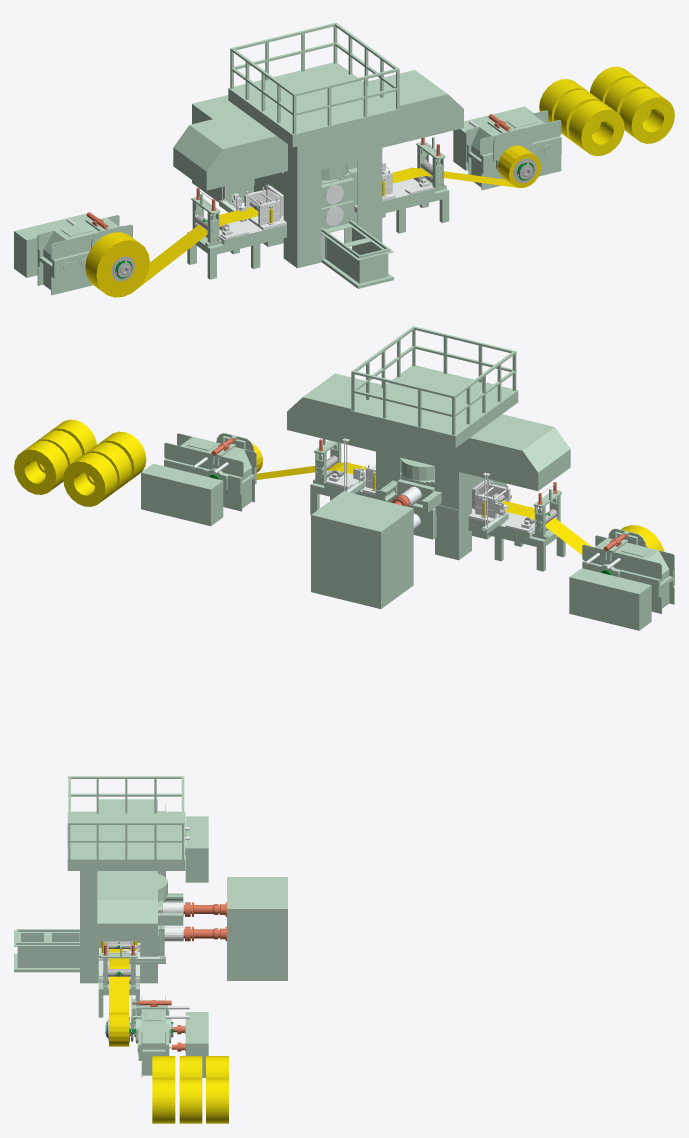
File: 150lenzhaji.glb
The picture shows the model from 3 angles, top to bottom: view 1: azimuth 30°, elevation 25°; view 2: azimuth 150°, elevation 25°; view 3: azimuth 270°, elevation 25°; orthographic projection. The views are drawn at different scales.
Visible parts, largest first — view 1: TEMPORARY_IMPORT_NAMESPACE_150冷轧__polySurfaceSha6, TEMPORARY_IMPORT_NAMESPACE_150冷轧__pCubeSha, TEMPORARY_IMPORT_NAMESPACE_150冷轧__polySurfaceSha268, TEMPORARY_IMPORT_NAMESPACE_150冷轧__polySurfaceSha.002, TEMPORARY_IMPORT_NAMESPACE_150冷轧__polySurfaceSha57, transform20.001, transform634.001, transform15.001, TEMPORARY_IMPORT_NAMESPACE_150冷轧__polySurfaceSha85, TEMPORARY_IMPORT_NAMESPACE_150冷轧__polySurfaceSha86, TEMPORARY_IMPORT_NAMESPACE_150冷轧__polySurfaceSha41, TEMPORARY_IMPORT_NAMESPACE_150冷轧__polySurfaceSha.008 (+19 smaller); view 2: TEMPORARY_IMPORT_NAMESPACE_150冷轧__polySurfaceSha6, TEMPORARY_IMPORT_NAMESPACE_150冷轧__pCubeSha, TEMPORARY_IMPORT_NAMESPACE_150冷轧__polySurfaceSha86, TEMPORARY_IMPORT_NAMESPACE_150冷轧__polySurfaceSha268, TEMPORARY_IMPORT_NAMESPACE_150冷轧__polySurfaceSha41, TEMPORARY_IMPORT_NAMESPACE_150冷轧__polySurfaceSha85, transform18.001, transform17.001, transform634.001, TEMPORARY_IMPORT_NAMESPACE_150冷轧__polySurfaceSha35, TEMPORARY_IMPORT_NAMESPACE_150冷轧__polySurfaceSha80, transform19.001 (+7 smaller); view 3: TEMPORARY_IMPORT_NAMESPACE_150冷轧__polySurfaceSha6, TEMPORARY_IMPORT_NAMESPACE_150冷轧__polySurfaceSha86, TEMPORARY_IMPORT_NAMESPACE_150冷轧__pCubeSha, TEMPORARY_IMPORT_NAMESPACE_150冷轧__polySurfaceSha.002, TEMPORARY_IMPORT_NAMESPACE_150冷轧__polySurfaceSha268, TEMPORARY_IMPORT_NAMESPACE_150冷轧__polySurfaceSha85, TEMPORARY_IMPORT_NAMESPACE_150冷轧__polySurfaceSha41, transform15.001, transform16.001, transform634.001, transform17.001, TEMPORARY_IMPORT_NAMESPACE_150冷轧__polySurfaceSha88 (+6 smaller).
Boxes of the visible parts, x1=… form: TEMPORARY_IMPORT_NAMESPACE_150冷轧__polySurfaceSha6: x1=228, y1=62, x2=400, y2=268; TEMPORARY_IMPORT_NAMESPACE_150冷轧__pCubeSha: x1=173, y1=70, x2=463, y2=190; TEMPORARY_IMPORT_NAMESPACE_150冷轧__polySurfaceSha268: x1=230, y1=22, x2=399, y2=134; TEMPORARY_IMPORT_NAMESPACE_150冷轧__polySurfaceSha.002: x1=321, y1=220, x2=393, y2=288; TEMPORARY_IMPORT_NAMESPACE_150冷轧__polySurfaceSha57: x1=85, y1=232, x2=149, y2=297; transform20.001: x1=568, y1=100, x2=624, y2=156; transform634.001: x1=139, y1=168, x2=518, y2=287; transform15.001: x1=619, y1=88, x2=674, y2=143; TEMPORARY_IMPORT_NAMESPACE_150冷轧__polySurfaceSha85: x1=14, y1=213, x2=89, y2=277; TEMPORARY_IMPORT_NAMESPACE_150冷轧__polySurfaceSha86: x1=192, y1=95, x2=254, y2=205; TEMPORARY_IMPORT_NAMESPACE_150冷轧__polySurfaceSha41: x1=453, y1=106, x2=533, y2=170; TEMPORARY_IMPORT_NAMESPACE_150冷轧__polySurfaceSha.008: x1=498, y1=145, x2=540, y2=187; TEMPORARY_IMPORT_NAMESPACE_150冷轧__polySurfaceSha6: x1=350, y1=365, x2=518, y2=560; TEMPORARY_IMPORT_NAMESPACE_150冷轧__pCubeSha: x1=287, y1=373, x2=570, y2=490; TEMPORARY_IMPORT_NAMESPACE_150冷轧__polySurfaceSha86: x1=311, y1=491, x2=413, y2=608; TEMPORARY_IMPORT_NAMESPACE_150冷轧__polySurfaceSha268: x1=351, y1=326, x2=516, y2=435; TEMPORARY_IMPORT_NAMESPACE_150冷轧__polySurfaceSha41: x1=141, y1=463, x2=223, y2=526; TEMPORARY_IMPORT_NAMESPACE_150冷轧__polySurfaceSha85: x1=569, y1=568, x2=651, y2=630; transform18.001: x1=63, y1=452, x2=117, y2=506; transform17.001: x1=14, y1=440, x2=67, y2=494; transform634.001: x1=256, y1=462, x2=593, y2=554; TEMPORARY_IMPORT_NAMESPACE_150冷轧__polySurfaceSha35: x1=164, y1=442, x2=243, y2=477; TEMPORARY_IMPORT_NAMESPACE_150冷轧__polySurfaceSha80: x1=582, y1=544, x2=661, y2=579; transform19.001: x1=85, y1=442, x2=131, y2=494; TEMPORARY_IMPORT_NAMESPACE_150冷轧__polySurfaceSha6: x1=67, y1=811, x2=185, y2=983; TEMPORARY_IMPORT_NAMESPACE_150冷轧__polySurfaceSha86: x1=227, y1=877, x2=287, y2=980; TEMPORARY_IMPORT_NAMESPACE_150冷轧__pCubeSha: x1=97, y1=799, x2=157, y2=940; TEMPORARY_IMPORT_NAMESPACE_150冷轧__polySurfaceSha.002: x1=14, y1=929, x2=79, y2=972; TEMPORARY_IMPORT_NAMESPACE_150冷轧__polySurfaceSha268: x1=68, y1=776, x2=184, y2=859; TEMPORARY_IMPORT_NAMESPACE_150冷轧__polySurfaceSha85: x1=185, y1=816, x2=208, y2=882; TEMPORARY_IMPORT_NAMESPACE_150冷轧__polySurfaceSha41: x1=185, y1=1012, x2=208, y2=1077; transform15.001: x1=152, y1=1078, x2=175, y2=1123; transform16.001: x1=179, y1=1078, x2=202, y2=1123; transform634.001: x1=109, y1=949, x2=129, y2=1012; transform17.001: x1=206, y1=1078, x2=228, y2=1123; TEMPORARY_IMPORT_NAMESPACE_150冷轧__polySurfaceSha88: x1=164, y1=926, x2=226, y2=941.
Size of the model in its own units: 21 by 5.81 by 20.92.
11 materials, 2 textured.
